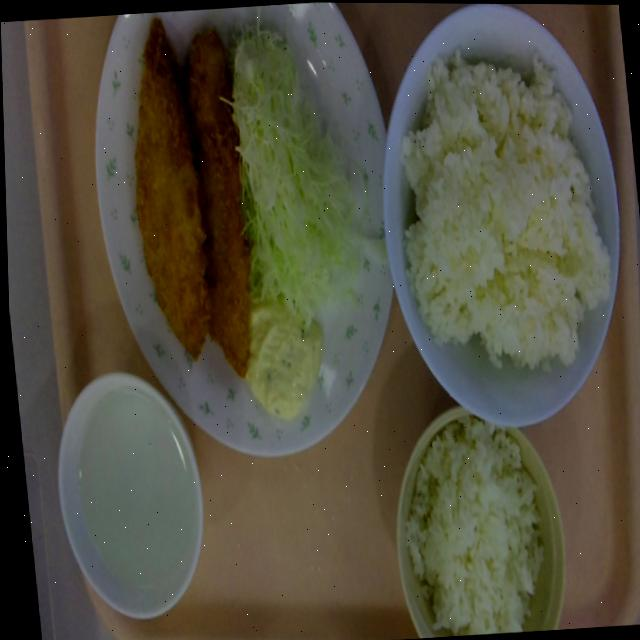炸货点心: (103, 6, 266, 379)
熟制海鲜: (103, 6, 266, 379)
米饭主食: (365, 2, 640, 438), (366, 401, 581, 640)
蔬菜料理: (218, 14, 361, 334)
